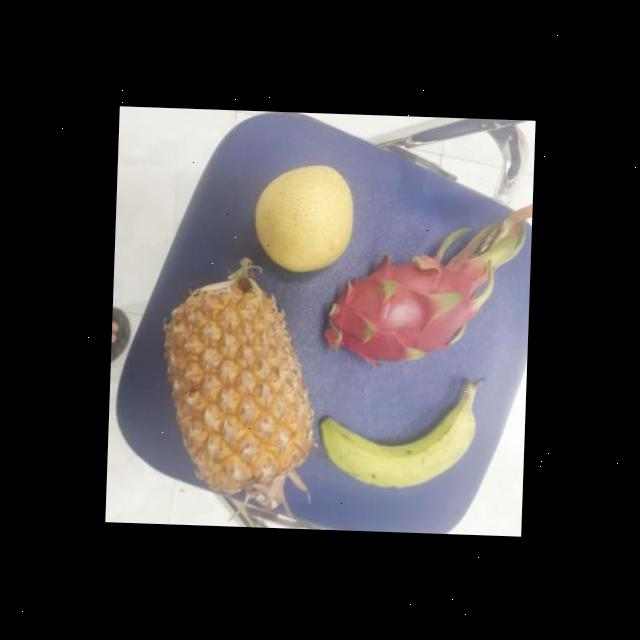banana: (316, 380, 476, 490)
pear: (254, 161, 354, 279)
pineapple: (160, 269, 318, 502)
pitaya: (320, 237, 484, 373)
